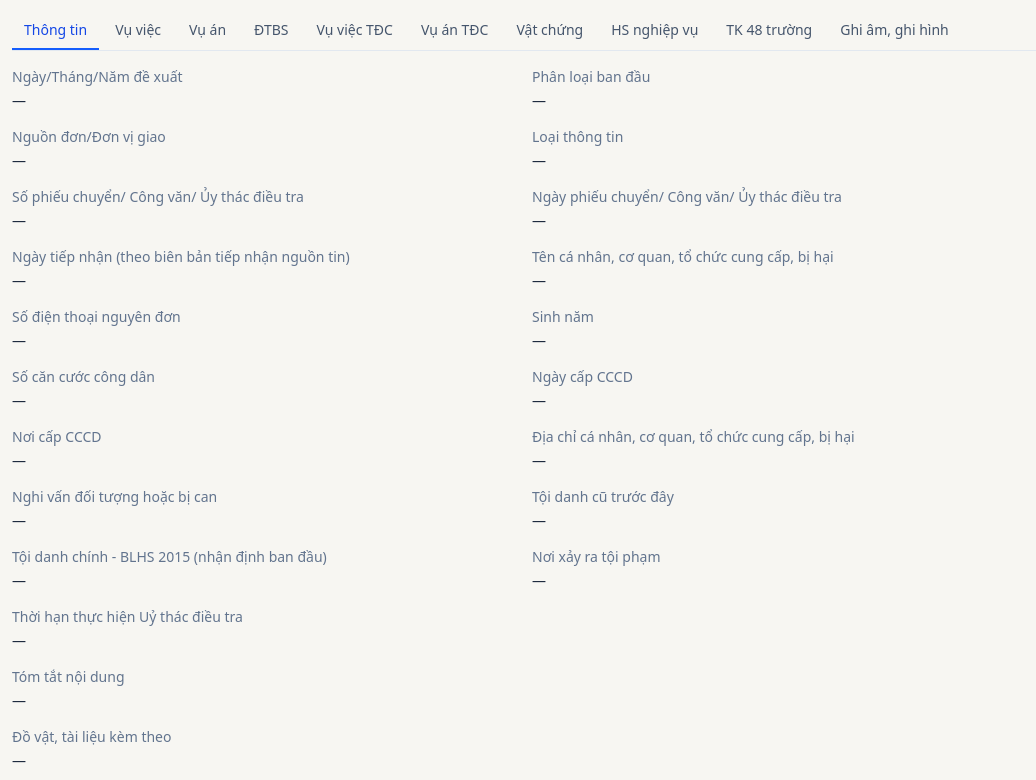
Test: CG01 shared read-only case information › shows unknown nullable flags distinctly from a verified false value
Click the tab with test id "case-information-tab-media": (894, 31) [828,12,961,50]
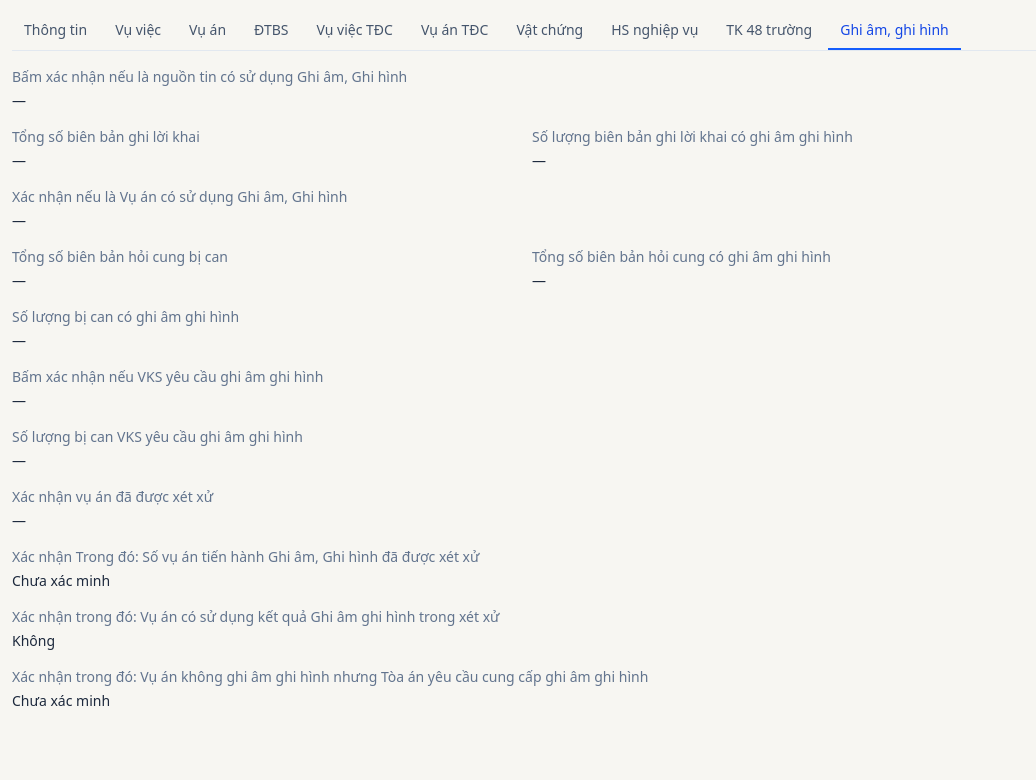
Check: the 1st text "Chưa xác minh" is shown, box [12,571,110,590]
Check: the text "Không" is shown, box [12,631,55,650]
